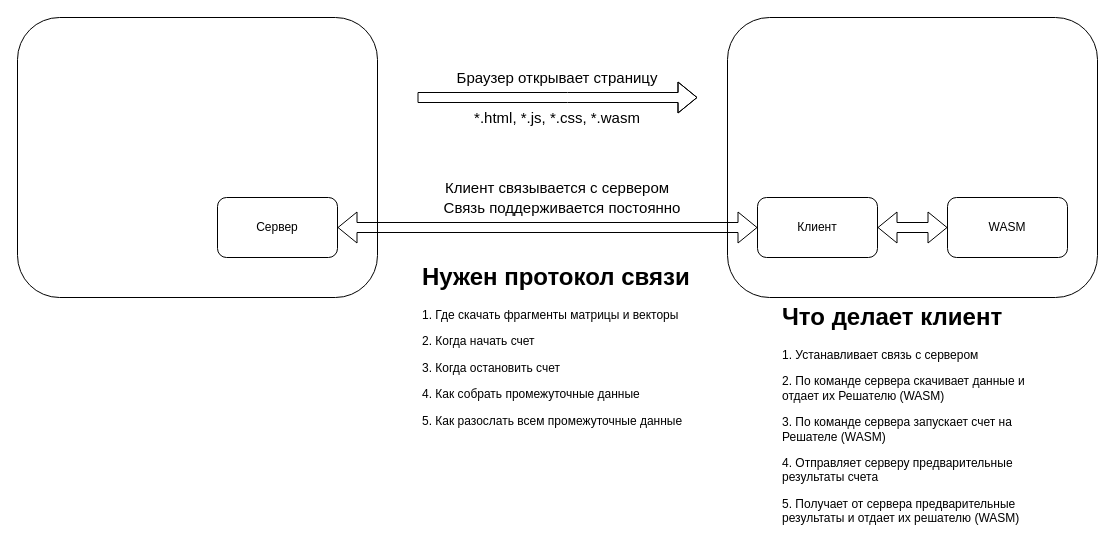
Image size: 1115x555. Some labels were removed from this diagram. The box of each missing label's shape, as (x1, y1, x2, y2) in pixels:
Browser: (726, 16, 1098, 298)
Web-server: (16, 16, 378, 298)
